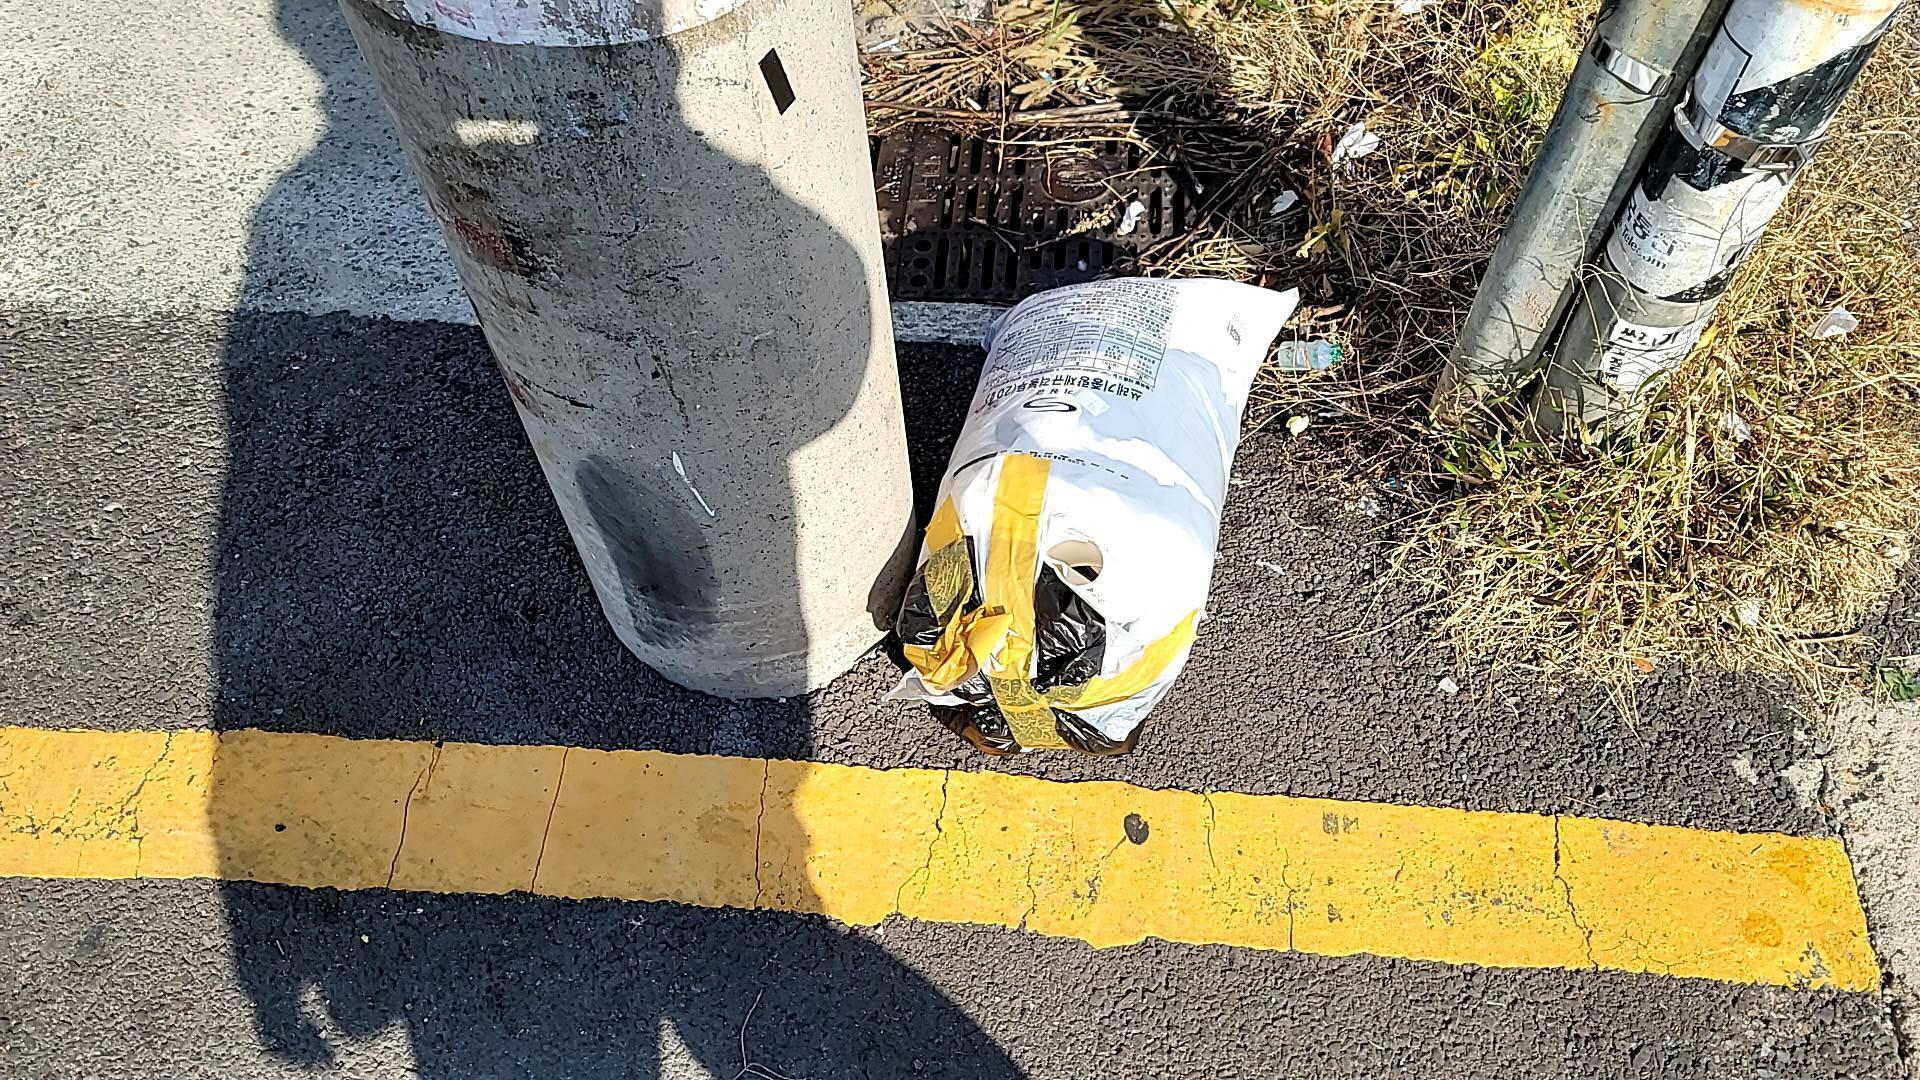white_bag: (873, 224, 1307, 775)
